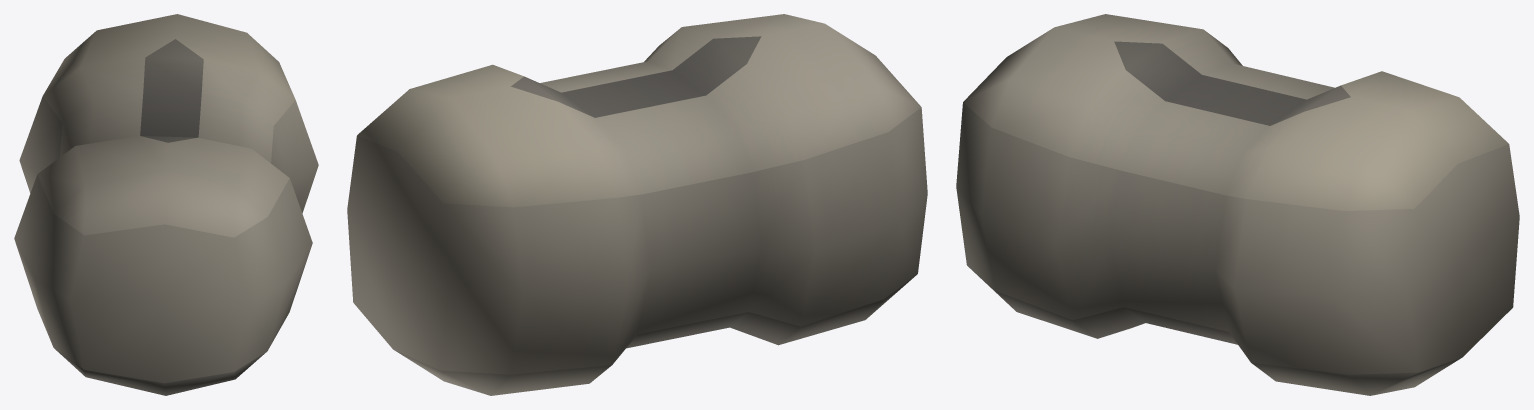
Rendered from deco_bone_2.fbx.
The picture shows the model from 3 angles, left to right: view 1: azimuth 30°, elevation 25°; view 2: azimuth 150°, elevation 25°; view 3: azimuth 270°, elevation 25°; orthographic projection. The views are drawn at different scales.
Visible parts, largest first — view 1: deco_bone_2; view 2: deco_bone_2; view 3: deco_bone_2.
Boxes of the visible parts, box(x1,y1,x2,y2) form: deco_bone_2: box(14, 14, 318, 395); deco_bone_2: box(347, 14, 927, 395); deco_bone_2: box(956, 14, 1519, 395).
Bounding box in the file's own units: 28.21 × 18.52 × 33.3.
